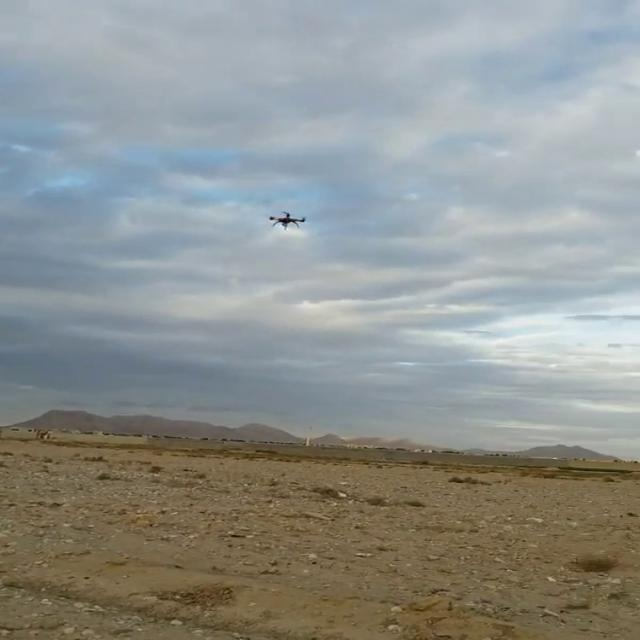drone: (264, 207, 310, 234)
